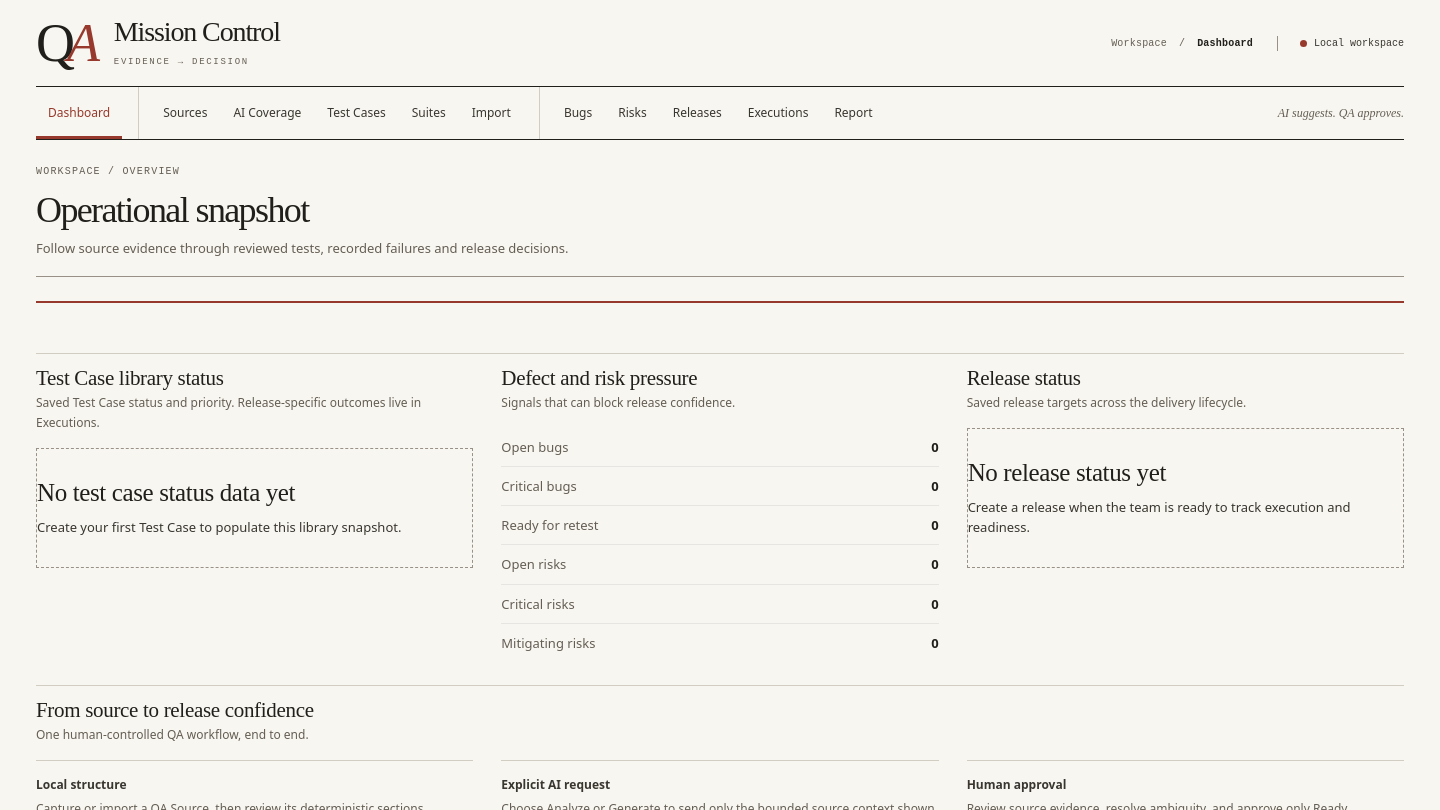
Test: App storage handling › loads a saved AI coverage plan after selecting the same QA Source
Click the button with aria-label "AI Coverage Workspace": click(267, 113) [221,87,313,139]
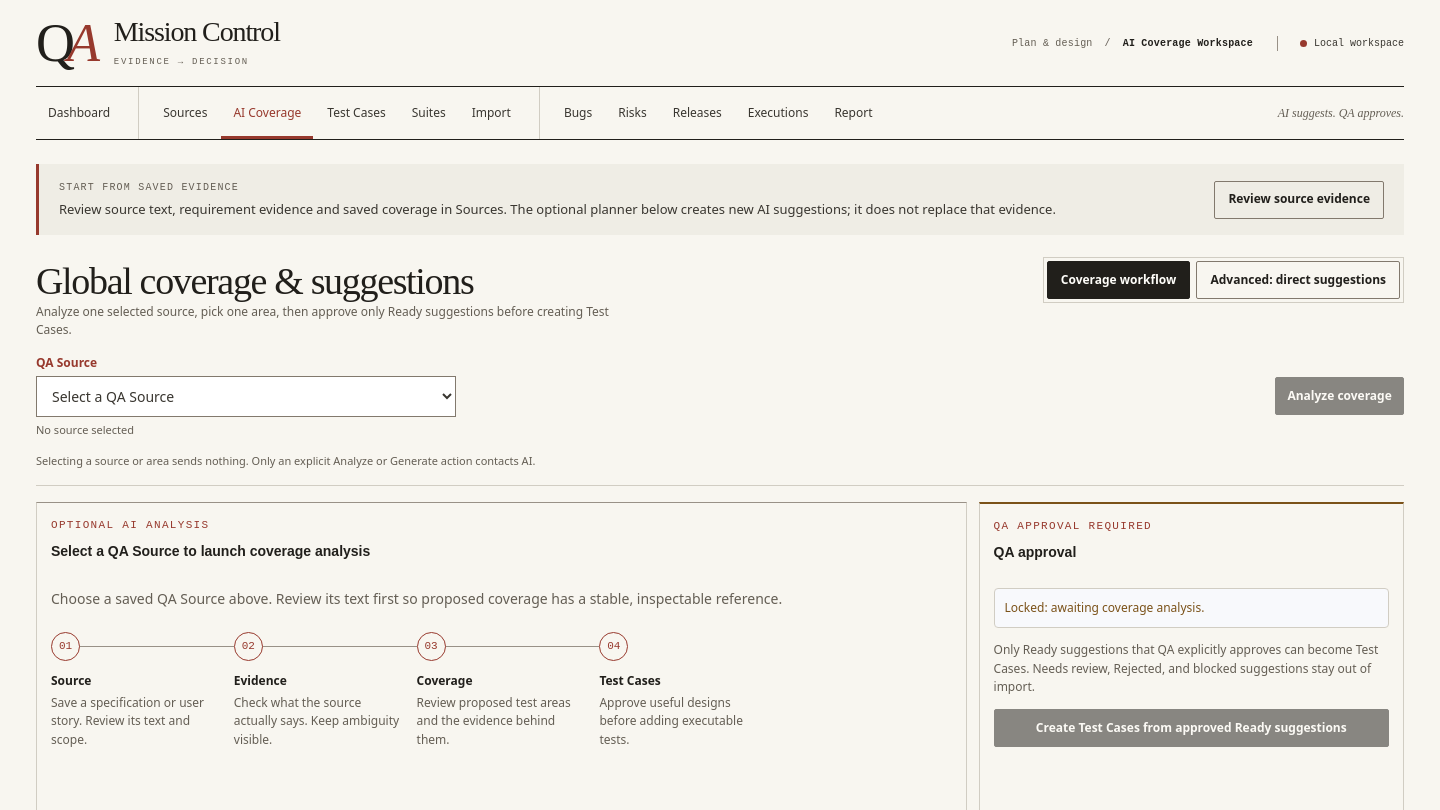
Select "Saved Checkout LLD" in the dropdown labelled "QA Source": (246, 397) [36,376,456,417]
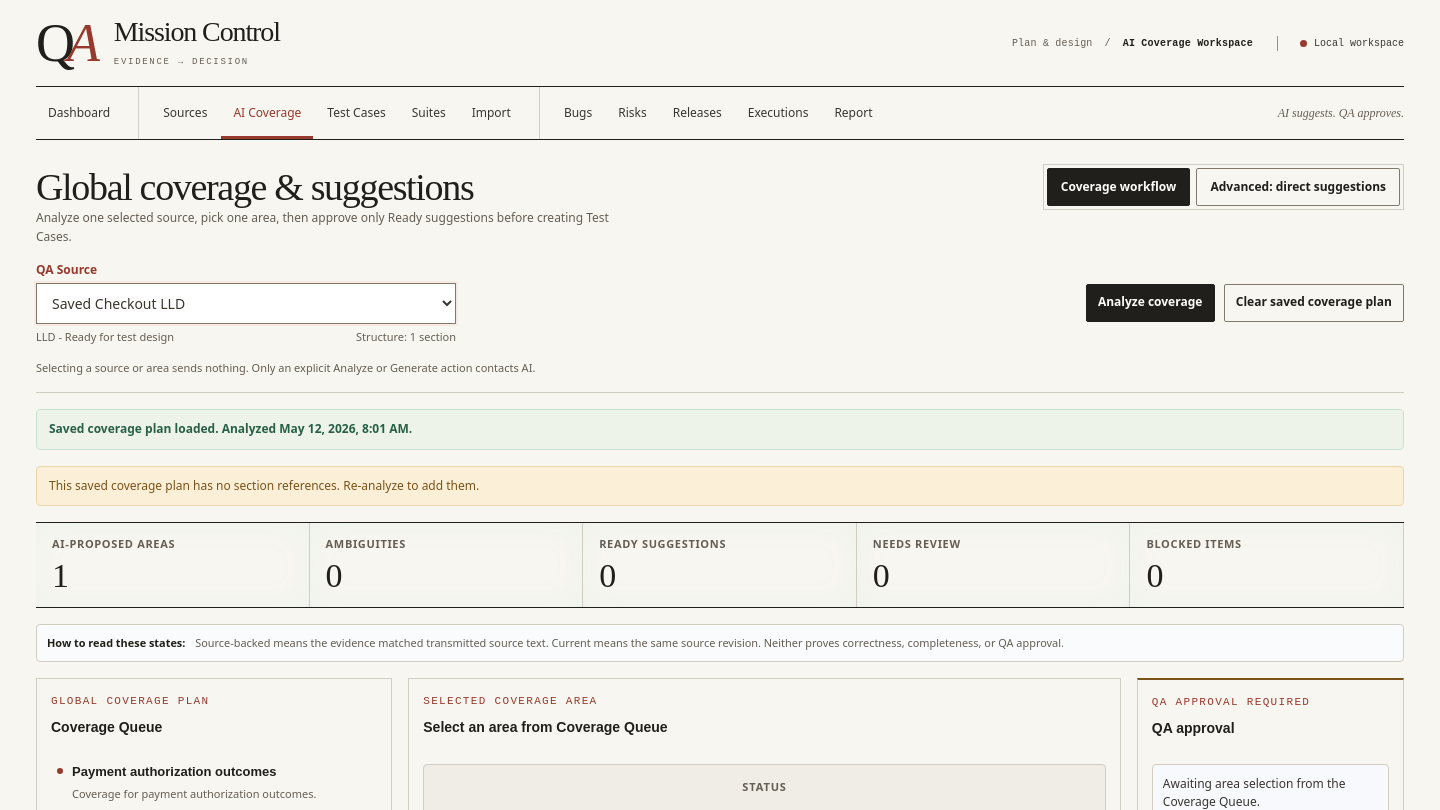
Now the text "Saved coverage plan loaded. Analyzed May 12, 2026, 8:01 AM." is shown, box [36,409,1404,450]
Now the heading "Coverage Queue" is shown, box [51,719,162,735]
Now the heading "Payment authorization outcomes" is shown, box [72,764,276,779]
